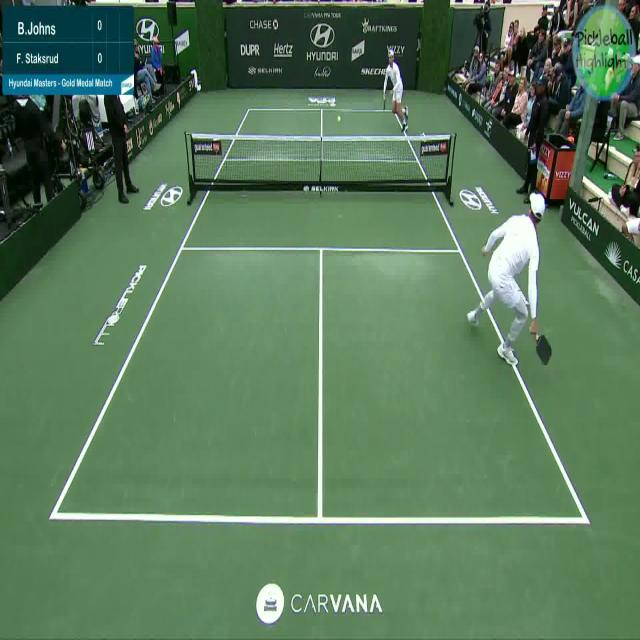ball: (332, 107, 348, 134)
